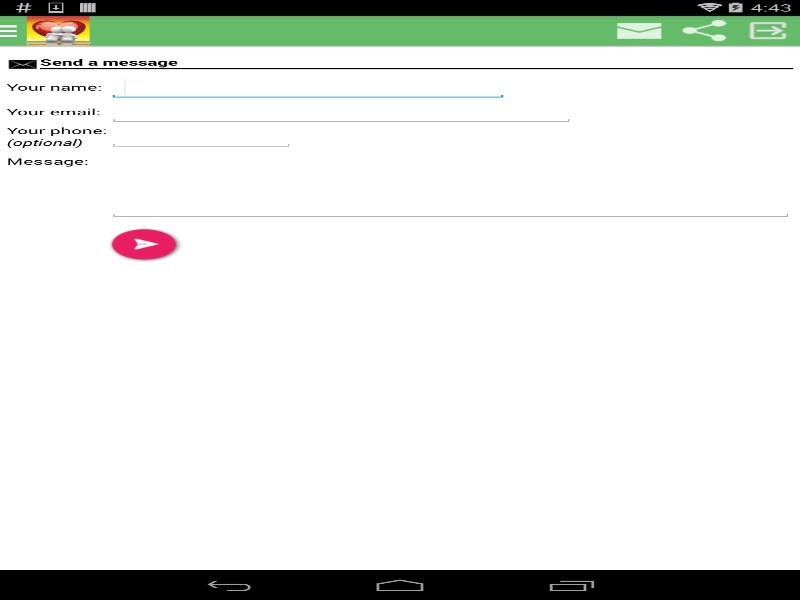Input: (108, 155, 793, 219), (108, 99, 574, 124), (108, 75, 508, 99), (108, 124, 294, 149)
